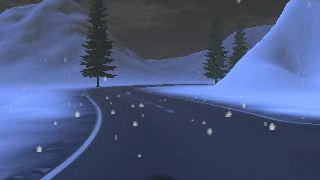Lane: (41, 83, 319, 179)
